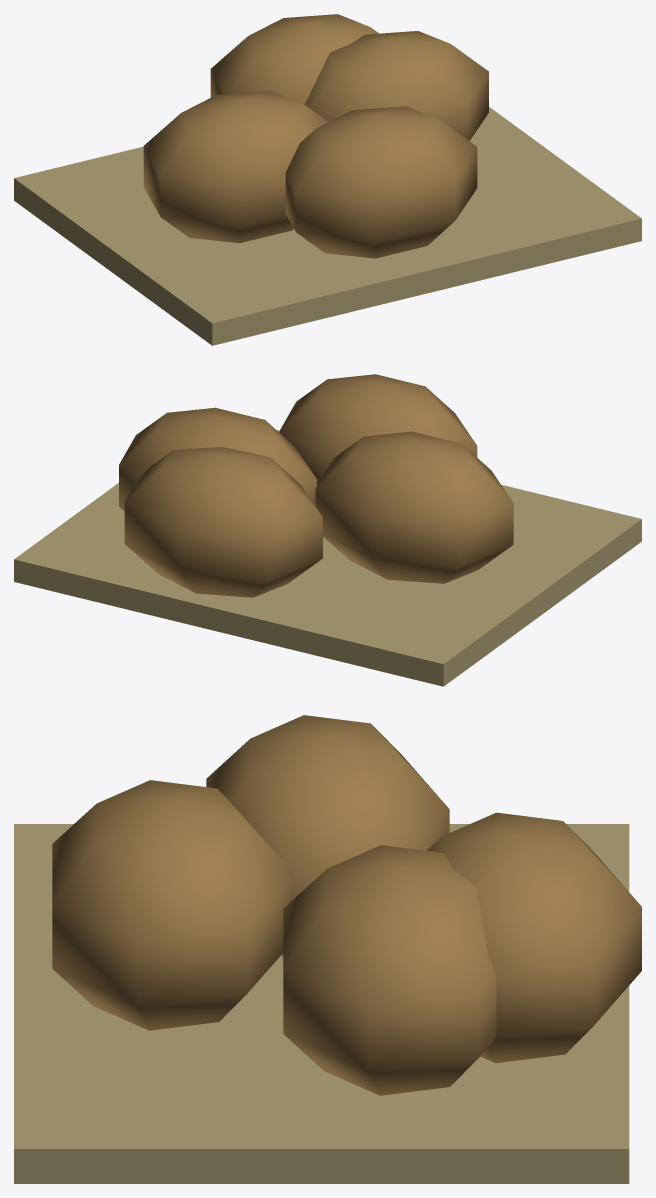
The model's file is potato.glb.
3 views of the same model, one above another, from view 1: azimuth 30°, elevation 25°; view 2: azimuth 150°, elevation 25°; view 3: azimuth 270°, elevation 25° (orthographic). The views are drawn at different scales.
Parts seen in each view (by area): view 1: Item; view 2: Item; view 3: Item.
Boxes of the visible parts, <box> form: Item: <box>14,14,641,345</box>; Item: <box>14,374,641,686</box>; Item: <box>14,715,641,1183</box>.
Size of the model in its own units: 0.2 by 0.0627 by 0.1633.
